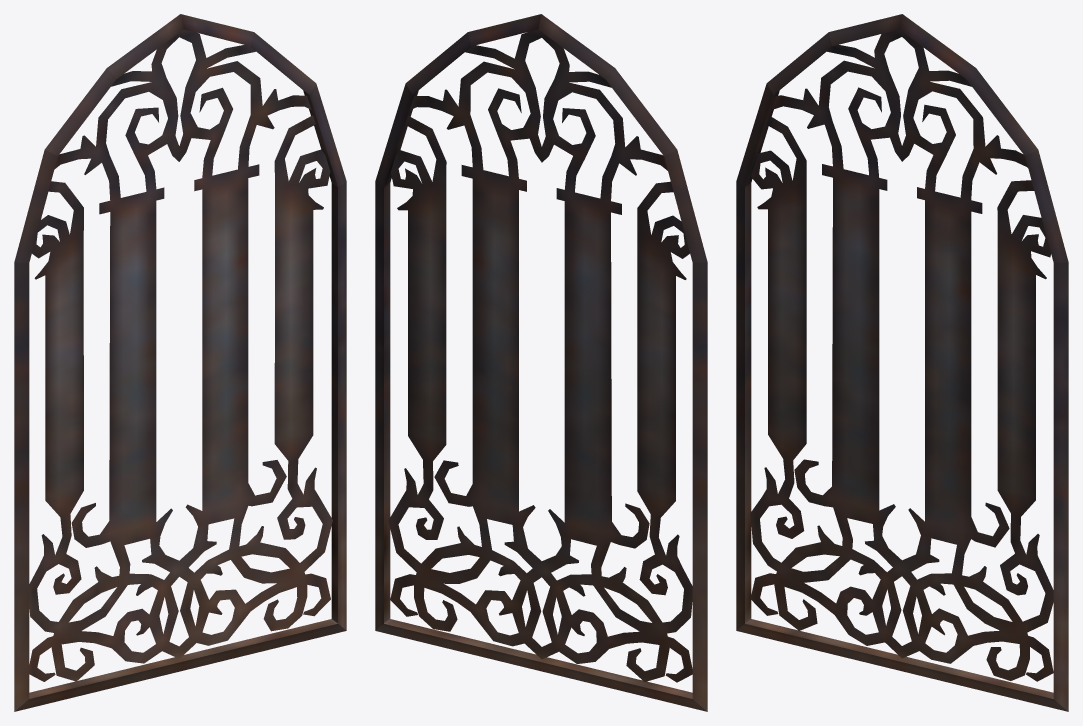
Rendered from SM_zhucheng_CastleArch_Iron_Gate_01.FBX.
3 views of the same model, side by side, from view 1: azimuth 30°, elevation 25°; view 2: azimuth 150°, elevation 25°; view 3: azimuth 330°, elevation 25° (orthographic).
Parts seen in each view (by area): view 1: SM_zhucheng_CastleArch_Iron_Gate_01; view 2: SM_zhucheng_CastleArch_Iron_Gate_01; view 3: SM_zhucheng_CastleArch_Iron_Gate_01.
Part boxes in pixels (x1=…): SM_zhucheng_CastleArch_Iron_Gate_01: x1=14, y1=14, x2=346, y2=711; SM_zhucheng_CastleArch_Iron_Gate_01: x1=375, y1=14, x2=707, y2=711; SM_zhucheng_CastleArch_Iron_Gate_01: x1=736, y1=14, x2=1068, y2=711.
Size of the model in its own units: 63.44 by 120 by 2.16.
